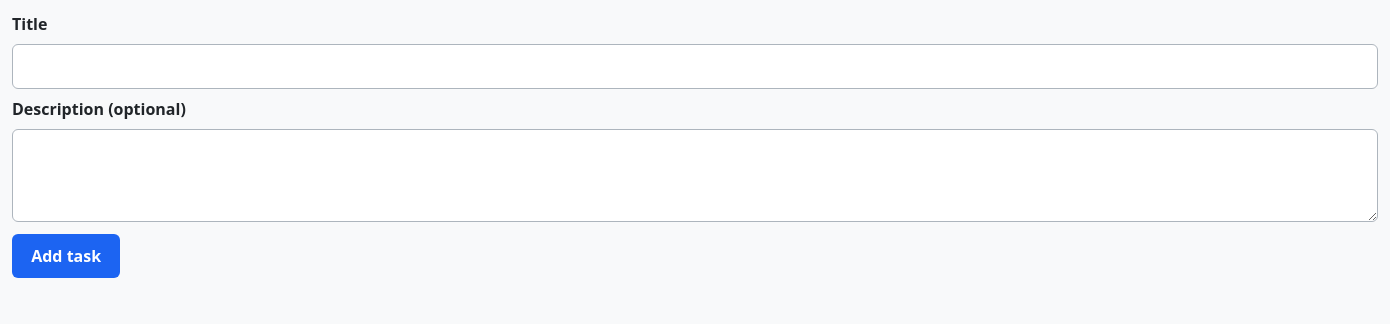
Scenario: TaskForm › server errors › clears the server error when the person submits again
The width and height of the screenshot is (1390, 324).
Type "Buy milk" into the field labelled "Title" at point(695, 67), box [12,44,1378,89]
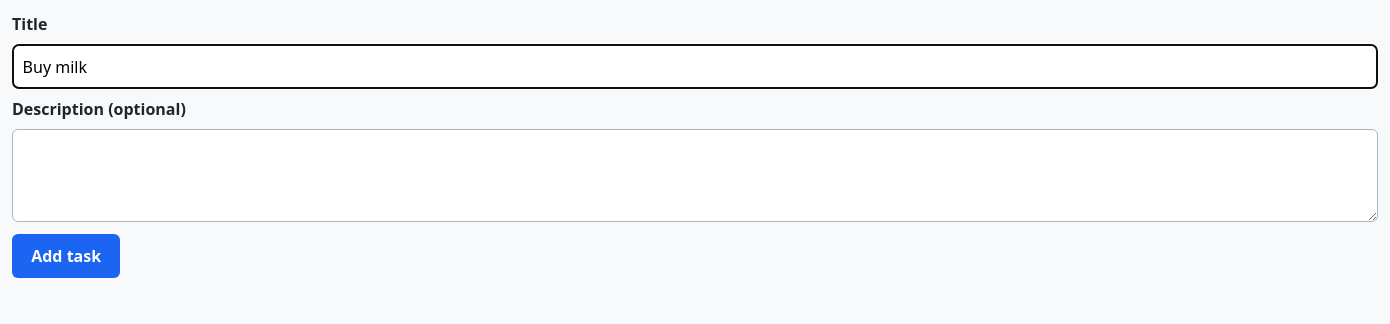
Click the button "Add task" at point(66, 256), box [12,234,120,278]
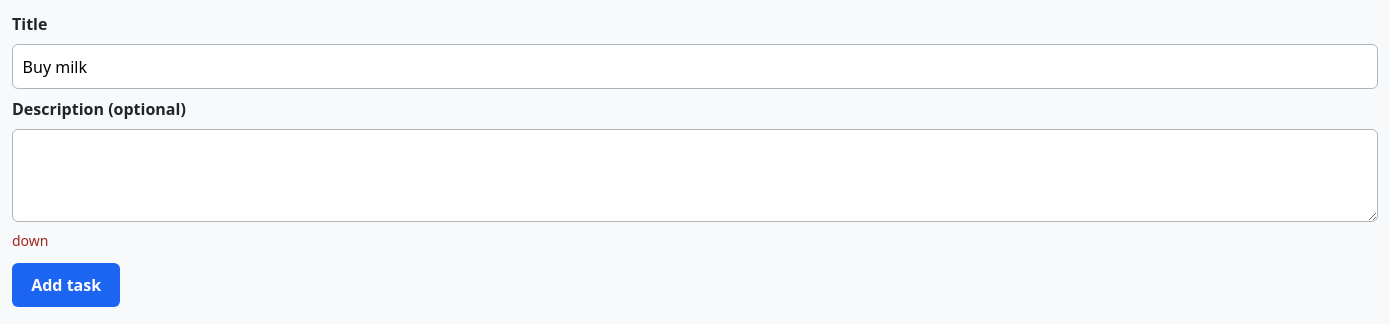
Now the message "down" is shown, box [12,231,48,250]
Click the button "Add task" at point(66, 285), box [12,263,120,307]
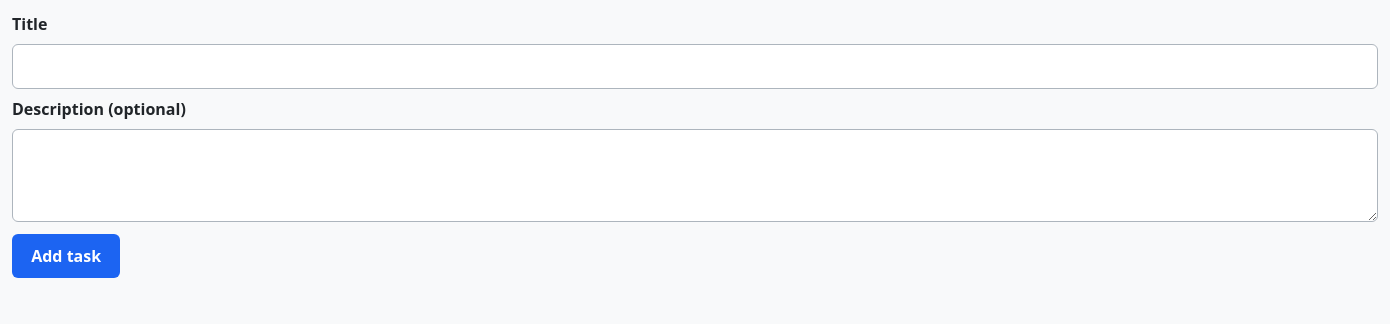
Expected: the button "Add task" is enabled, [12,234,120,278]
Now the message "down" is gone
